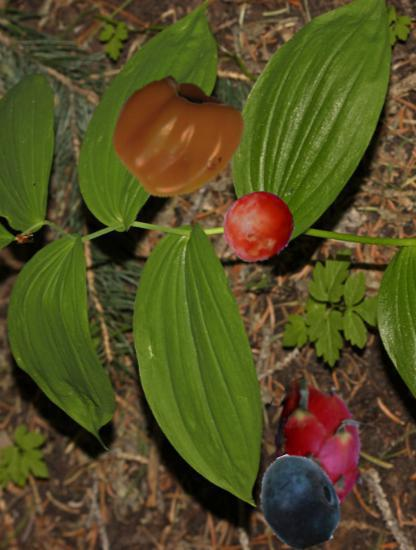Blueberry: (251, 453, 346, 548)
Grape: (222, 190, 295, 263)
Pepper: (111, 67, 247, 203)
Pitahaya: (252, 375, 393, 516)
